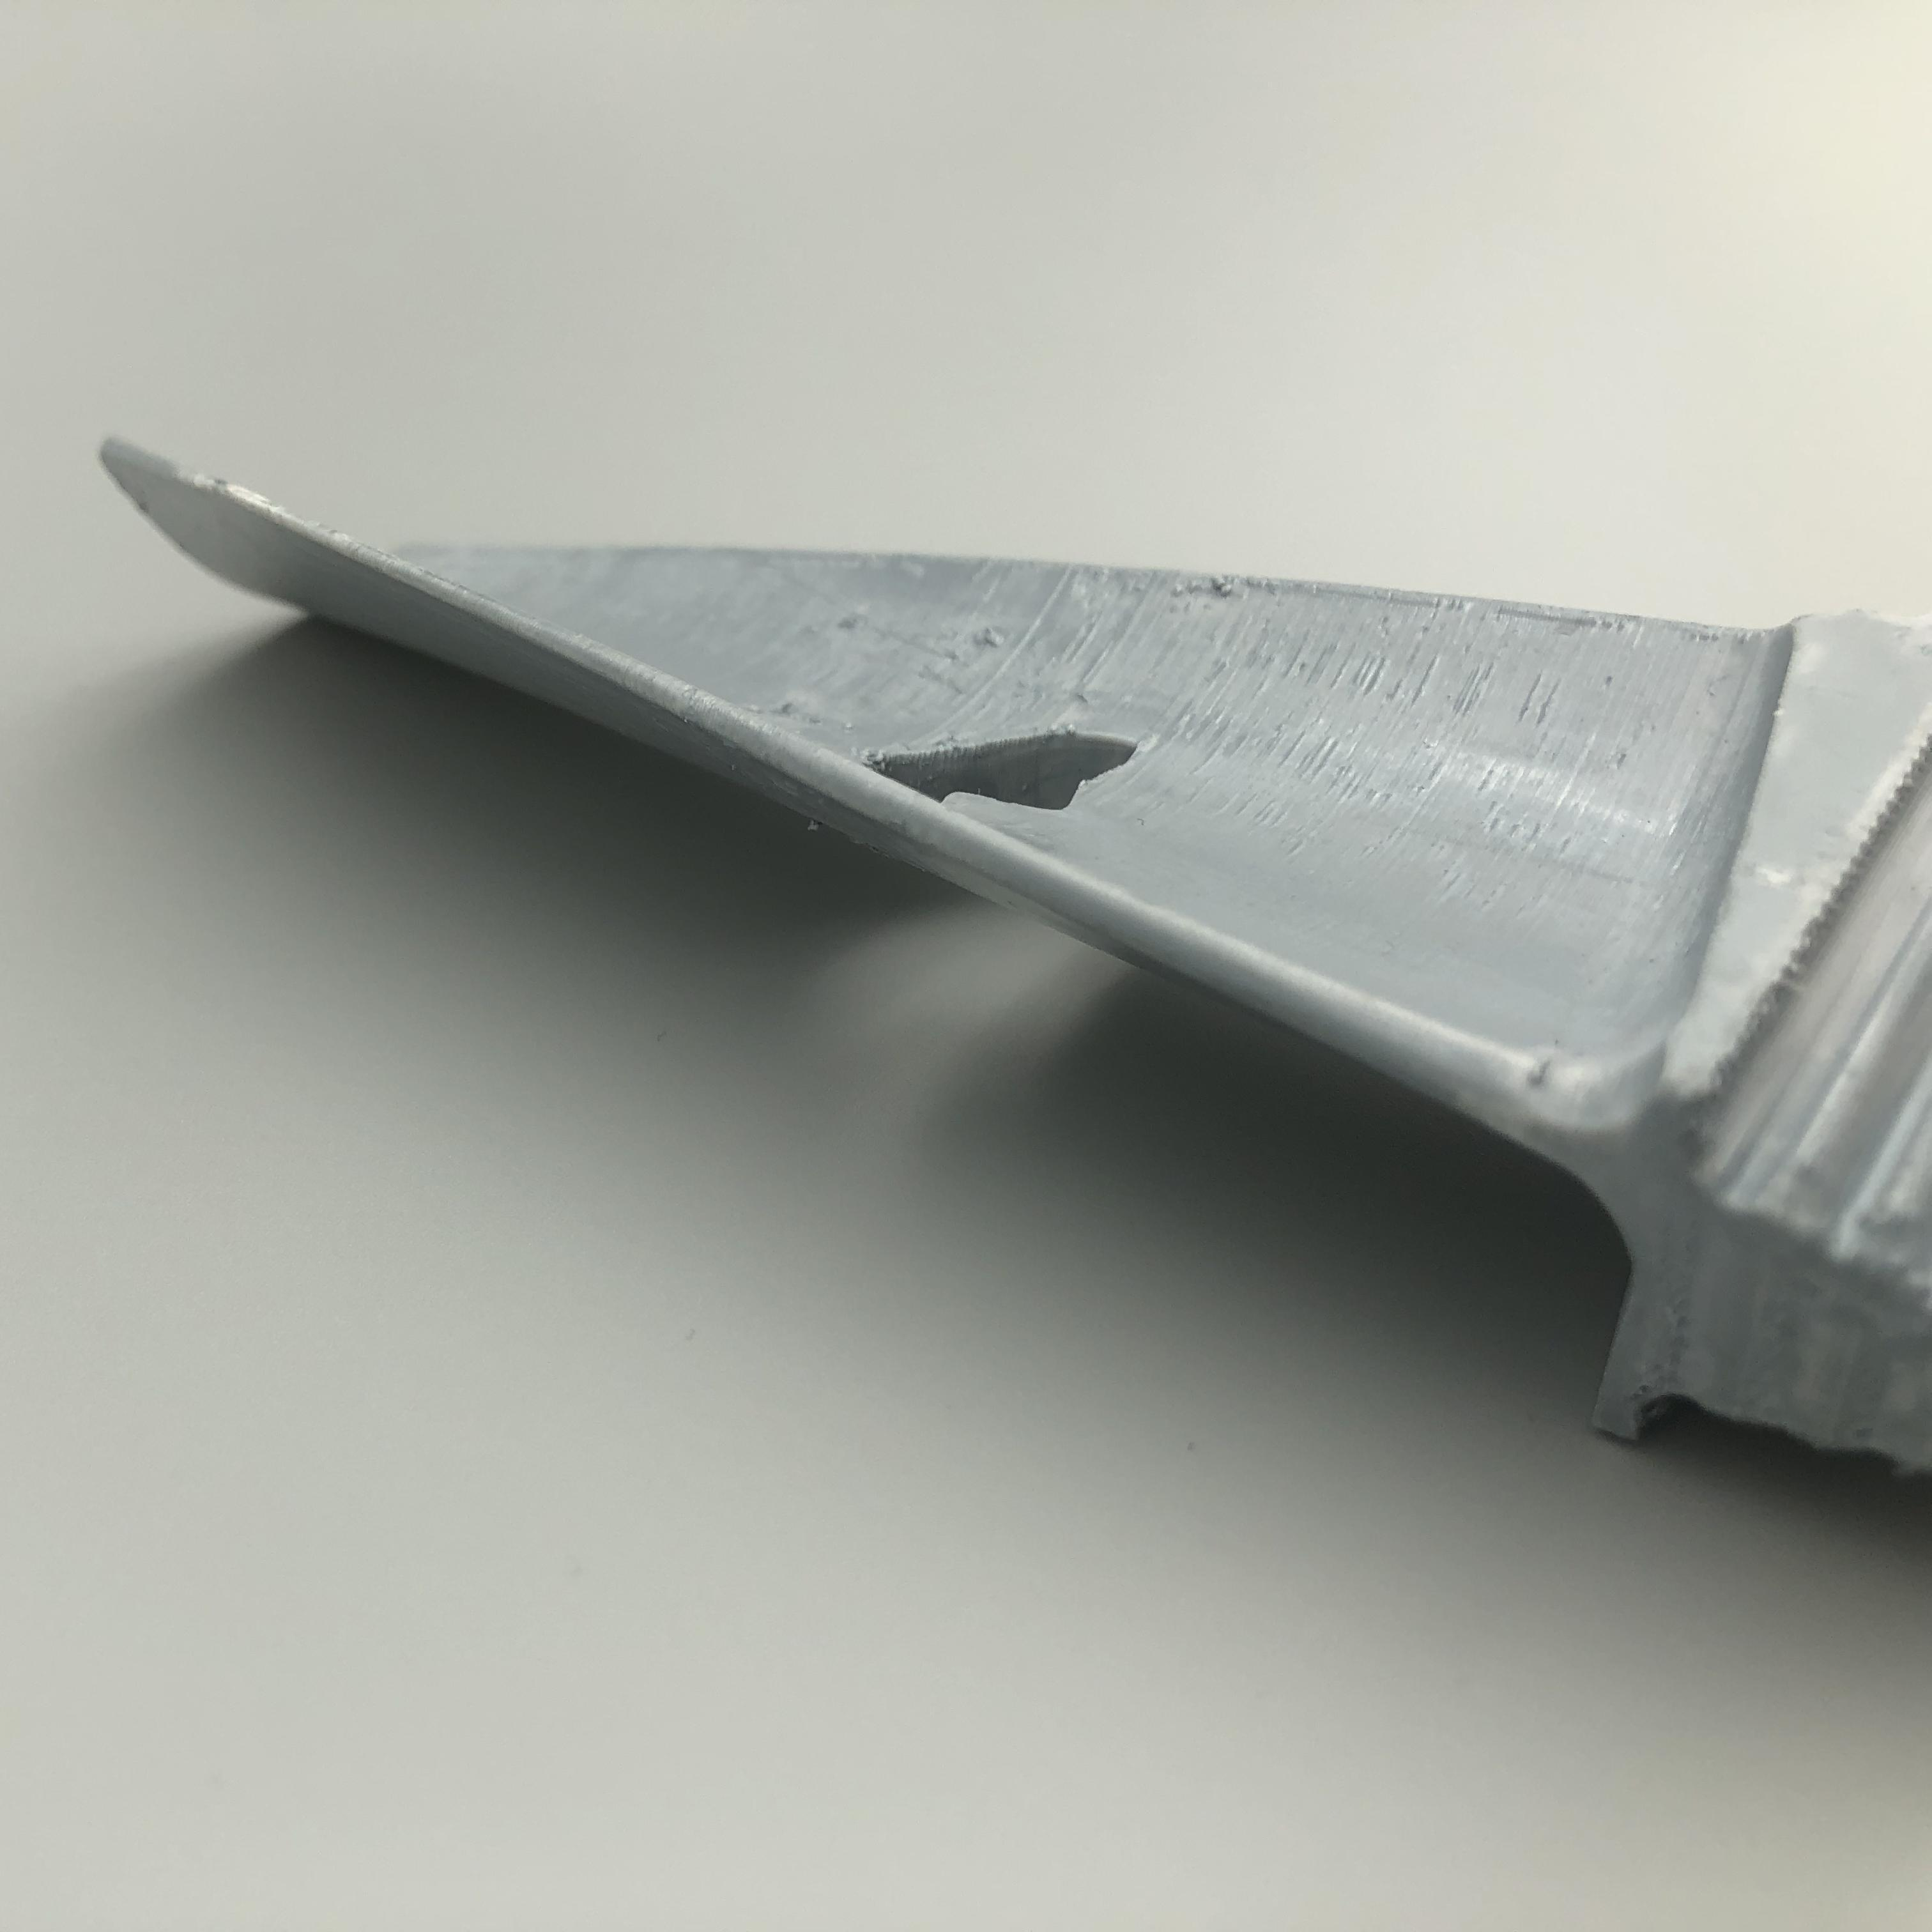breakdown: (851, 702, 1161, 824)
